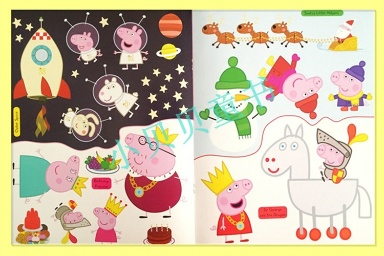Peppa: (202, 163, 256, 245), (259, 54, 321, 120), (90, 193, 129, 244)
